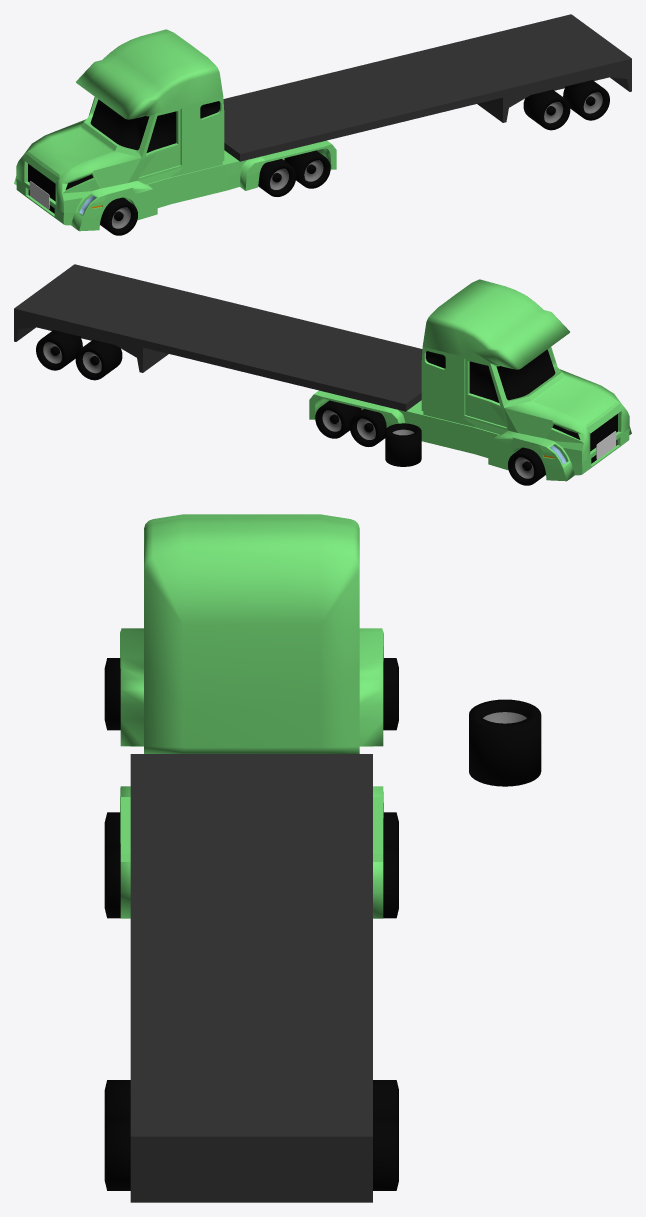
The model's file is semiTruck.fbx.
The picture shows the model from 3 angles, top to bottom: view 1: azimuth 30°, elevation 25°; view 2: azimuth 150°, elevation 25°; view 3: azimuth 270°, elevation 25°; orthographic projection. The views are drawn at different scales.
Parts seen in each view (by area): view 1: Semi Truck, Payload Hold, Payload Wheels, Payload Wheels.001, Back Wheels.001, Back Wheels, Wheels; view 2: Semi Truck, Payload Hold, Loose Wheel, Payload Wheels, Payload Wheels.001, Back Wheels.001, Back Wheels, Wheels; view 3: Payload Hold, Semi Truck, Loose Wheel, Payload Wheels.001, Wheels, Back Wheels.001, Payload Wheels, Back Wheels.
Boxes of the visible parts, x1,y1,x2,y2 form: Semi Truck: [14, 29, 336, 231]; Payload Hold: [223, 14, 631, 161]; Payload Wheels: [523, 89, 570, 130]; Payload Wheels.001: [563, 80, 609, 120]; Back Wheels.001: [284, 150, 330, 188]; Back Wheels: [258, 159, 296, 196]; Wheels: [100, 197, 137, 235]; Semi Truck: [309, 279, 631, 481]; Payload Hold: [14, 264, 422, 411]; Loose Wheel: [385, 423, 421, 466]; Payload Wheels: [75, 339, 122, 380]; Payload Wheels.001: [36, 330, 82, 370]; Back Wheels.001: [315, 400, 361, 438]; Back Wheels: [349, 409, 386, 446]; Wheels: [508, 447, 545, 485]; Payload Hold: [130, 754, 372, 1202]; Semi Truck: [120, 514, 383, 918]; Loose Wheel: [469, 699, 541, 786]; Payload Wheels.001: [104, 1118, 398, 1190]; Wheels: [104, 658, 398, 730]; Back Wheels.001: [104, 846, 398, 918]; Payload Wheels: [104, 1080, 398, 1127]; Back Wheels: [104, 812, 398, 855].
Size of the model in its own units: 1282 by 301 by 431.
